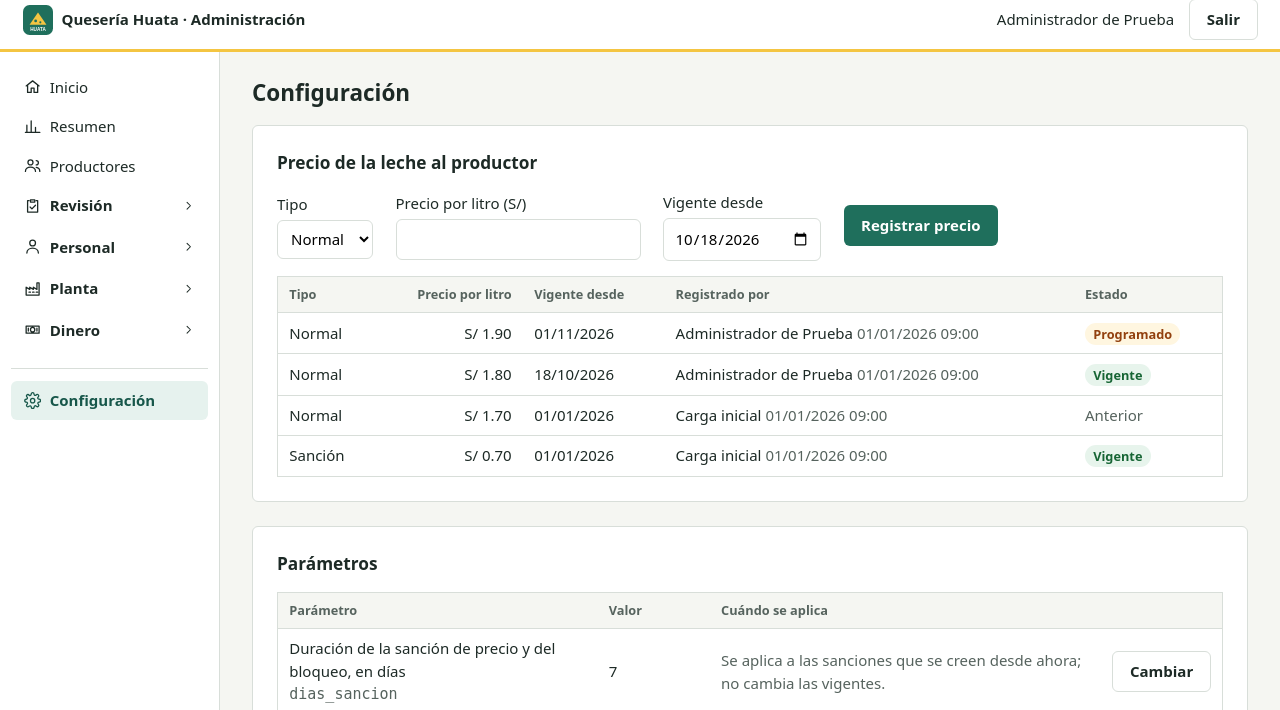
Scenario: configuración: parámetros › número: envía el valor nuevo y repite cuándo se aplica
Click the button with aria-label "Cambiar dias_sancion".
click(1162, 672)  # box [1112,651,1211,692]
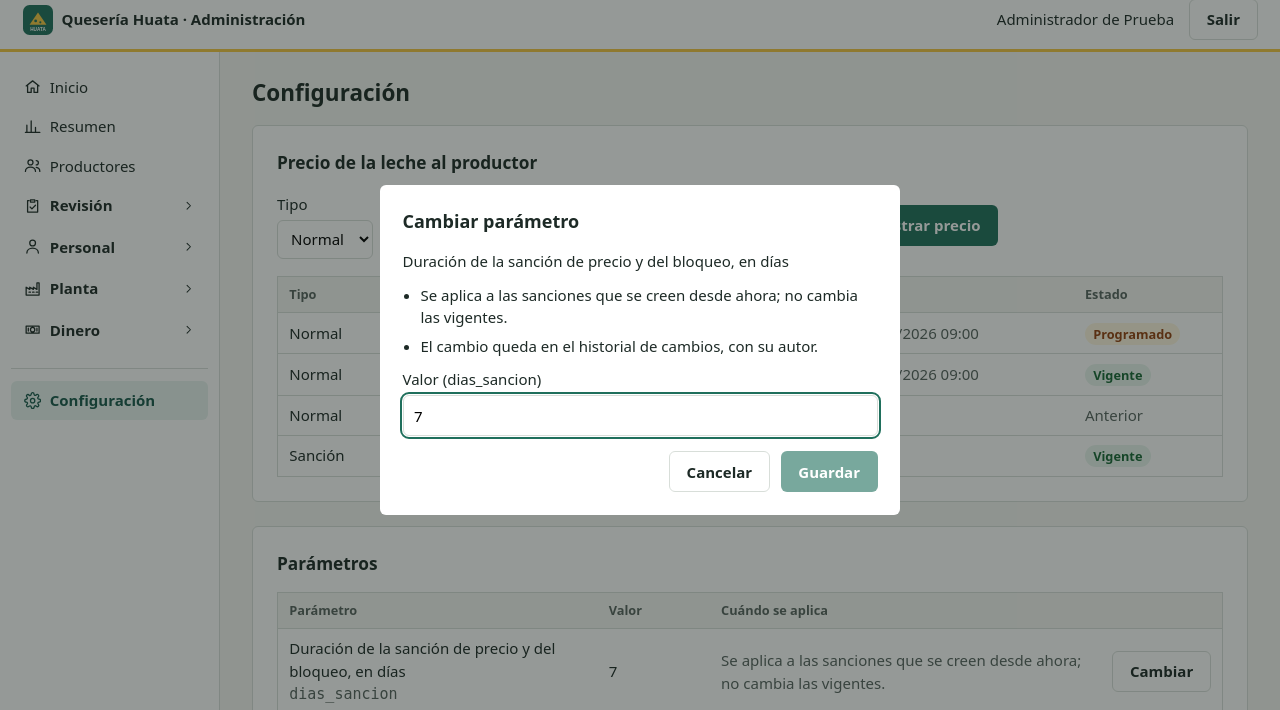
Check: the dialog "Cambiar parámetro" shows "Se aplica a las sanciones que se creen desde ahora", box [420,284,858,327]
Check: the button "Guardar" is disabled, box [781,451,878,492]
Replace the text in the field labelled "Valor (dias_sancion)" with " 5 " at coordinates (640, 416), box [402,395,878,436]
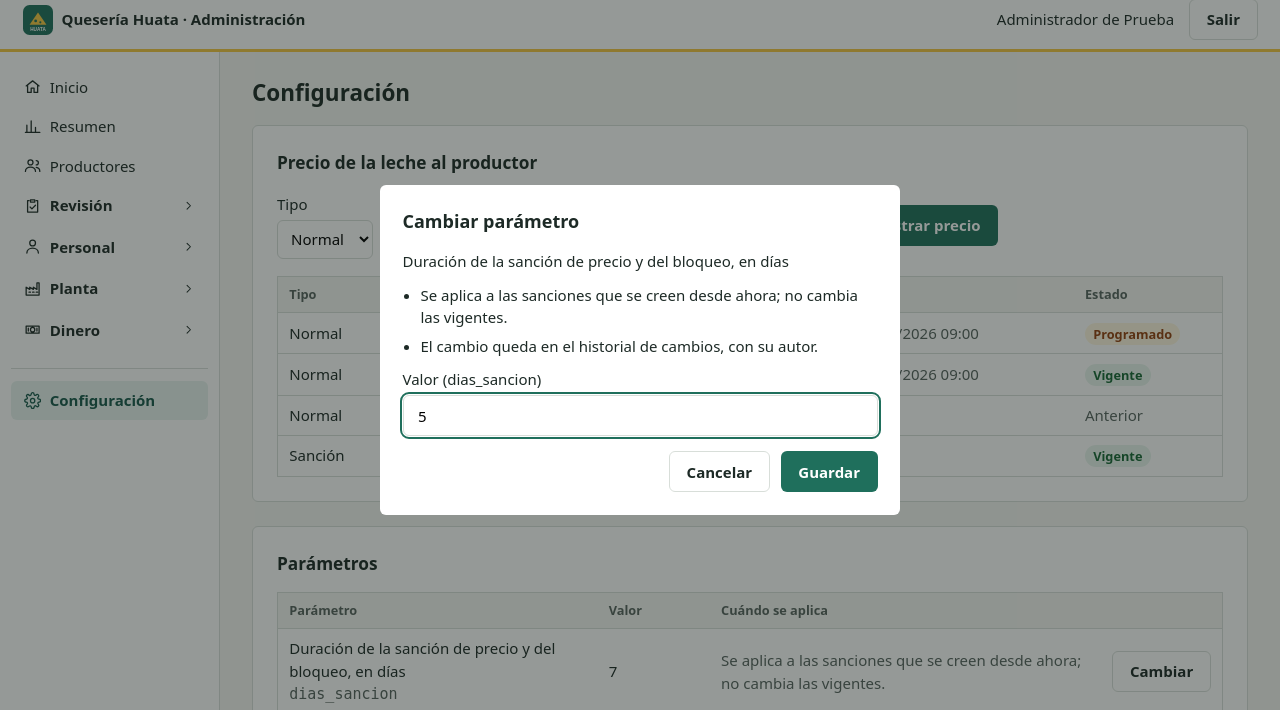
Click the button "Guardar".
click(829, 472)  # box [781,451,878,492]
(page scrolled)
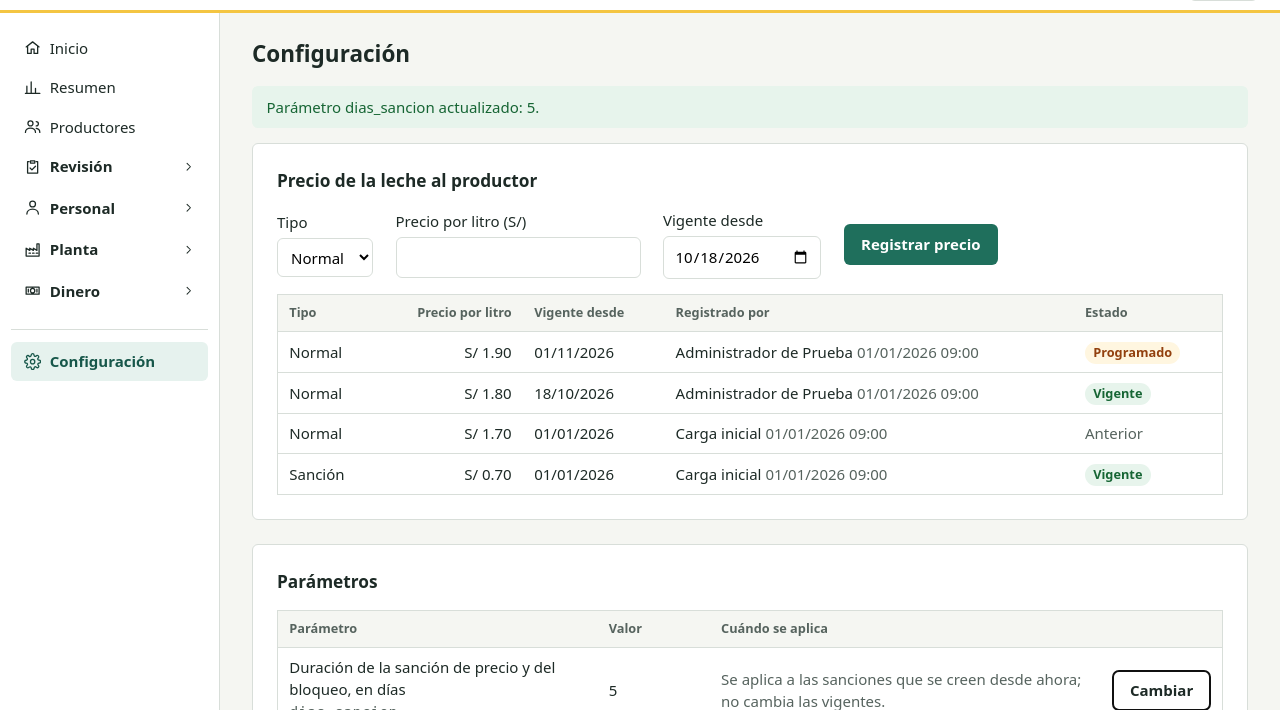
Check: the dialog is gone
Check: the message reads "Parámetro dias_sancion actualizado: 5.", box [266,97,539,117]
